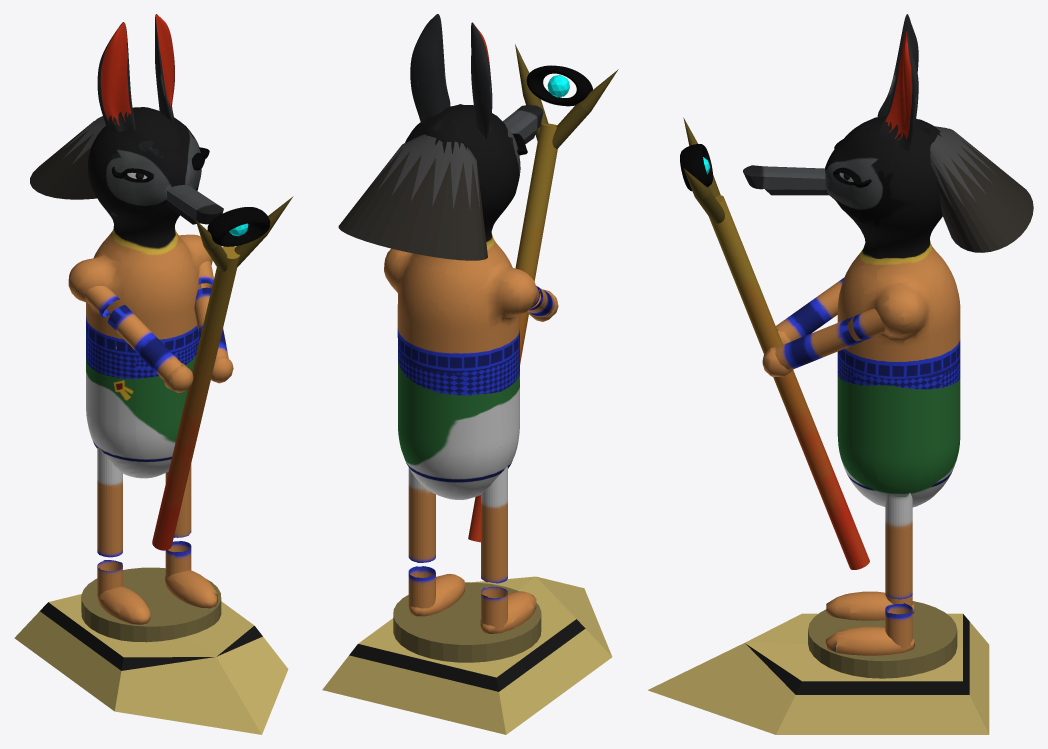
The model's file is Anubis speler.fbx.
3 views of the same model, side by side, from view 1: azimuth 30°, elevation 25°; view 2: azimuth 150°, elevation 25°; view 3: azimuth 270°, elevation 25° (orthographic). The views are drawn at different scales.
Parts seen in each view (by area): view 1: Mball.000, Kubus, Cylinder.005, Cylinder, Cube.001, Cylinder.001, Kegel.001, Cylinder.003, Torus.004, Cylinder.002, Cube, Cylinder.004 (+2 smaller); view 2: Mball.000, Kubus, Kegel.001, Cylinder, Cube.001, Cylinder.005, Cylinder.001, Cylinder.002, Torus.004, Cylinder.006, Cube, Cylinder.007 (+1 smaller); view 3: Mball.000, Kubus, Kegel.001, Cylinder.005, Cylinder, Cylinder.002, Cube.001, Cylinder.004, Cube, Cylinder.003, Torus.004, Cylinder.007.
Part boxes in pixels (x1,y1,x2,y2): Mball.000: (68,107,233,624); Kubus: (14,594,288,734); Cylinder.005: (152,246,239,550); Cylinder: (81,567,221,642); Cube.001: (97,14,174,132); Cylinder.001: (97,447,122,595); Kegel.001: (30,116,105,199); Cylinder.003: (85,286,182,379); Torus.004: (207,207,270,246); Cylinder.002: (165,464,191,576); Cube: (165,185,223,224); Cylinder.004: (194,261,228,358); Mball.000: (384,104,558,633); Kubus: (322,576,612,734); Kegel.001: (338,134,487,260); Cylinder: (393,582,541,662); Cube.001: (410,14,492,139); Cylinder.005: (468,123,557,542); Cylinder.001: (481,466,507,629); Cylinder.002: (408,467,435,608); Torus.004: (526,65,592,106); Cylinder.006: (552,69,618,148); Cube: (503,105,543,143); Cylinder.007: (515,44,548,140); Mball.000: (762,116,960,655); Kubus: (648,613,989,734); Kegel.001: (930,126,1033,252); Cylinder.005: (708,195,869,569); Cylinder: (808,601,957,678); Cylinder.002: (885,493,912,648); Cube.001: (877,14,918,151); Cylinder.004: (775,308,884,370); Cube: (743,165,828,195); Cylinder.003: (776,277,844,341); Torus.004: (680,144,713,191); Cylinder.007: (683,168,724,223).
Bounding box in the file's own units: 400 × 1380 × 724.
